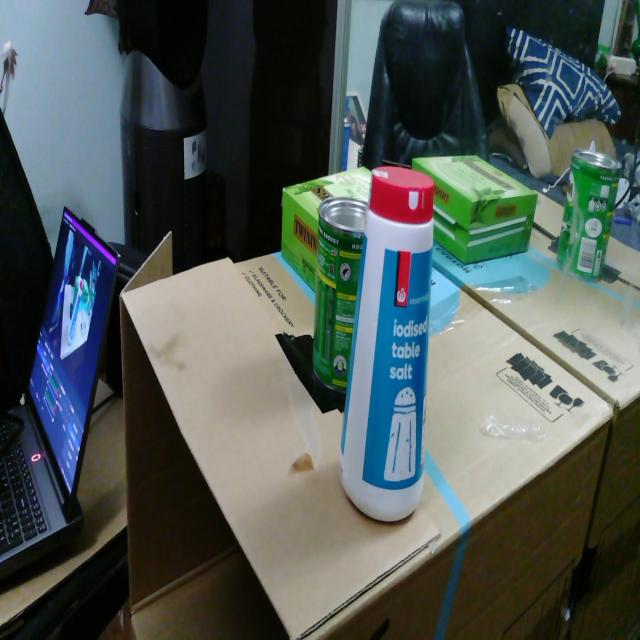nestle_milo_tin: (313, 196, 368, 393)
twinings_greentea_box: (282, 167, 371, 294)
woolworths_salt_bottle: (339, 166, 434, 521)
